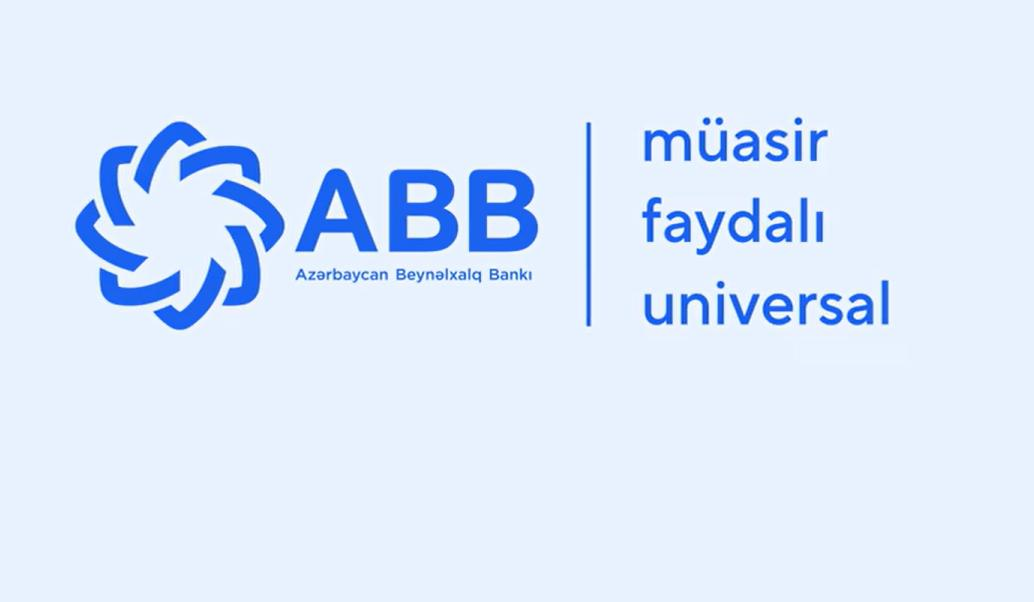ABB: (72, 118, 287, 331)
